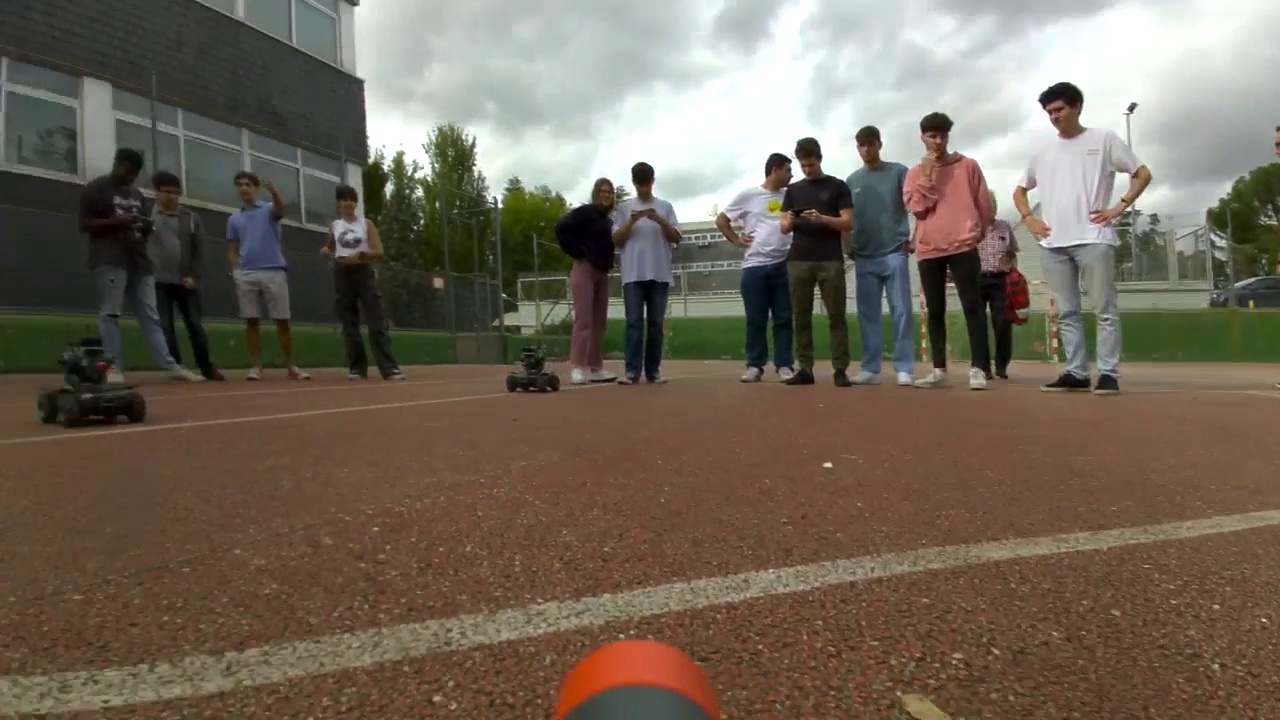robot: (38, 343, 145, 427), (506, 344, 561, 394)
